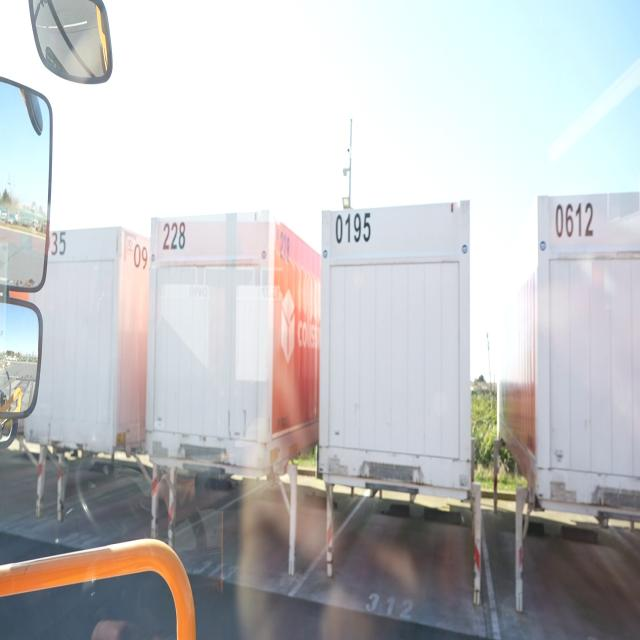Code: (551, 195, 596, 243), (331, 204, 373, 250), (160, 215, 187, 250)
